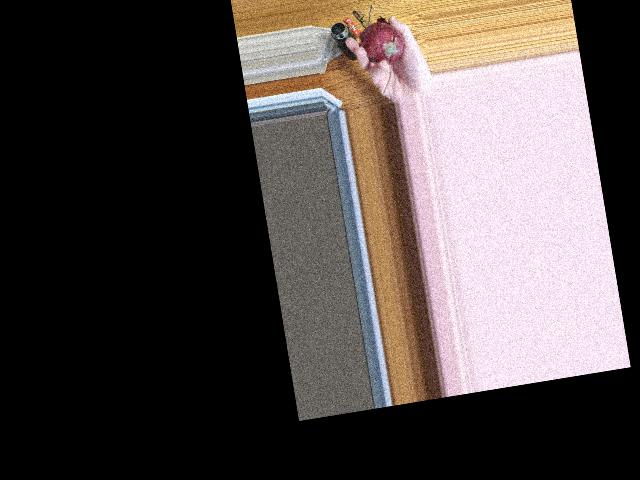onion: (365, 21, 405, 66)
